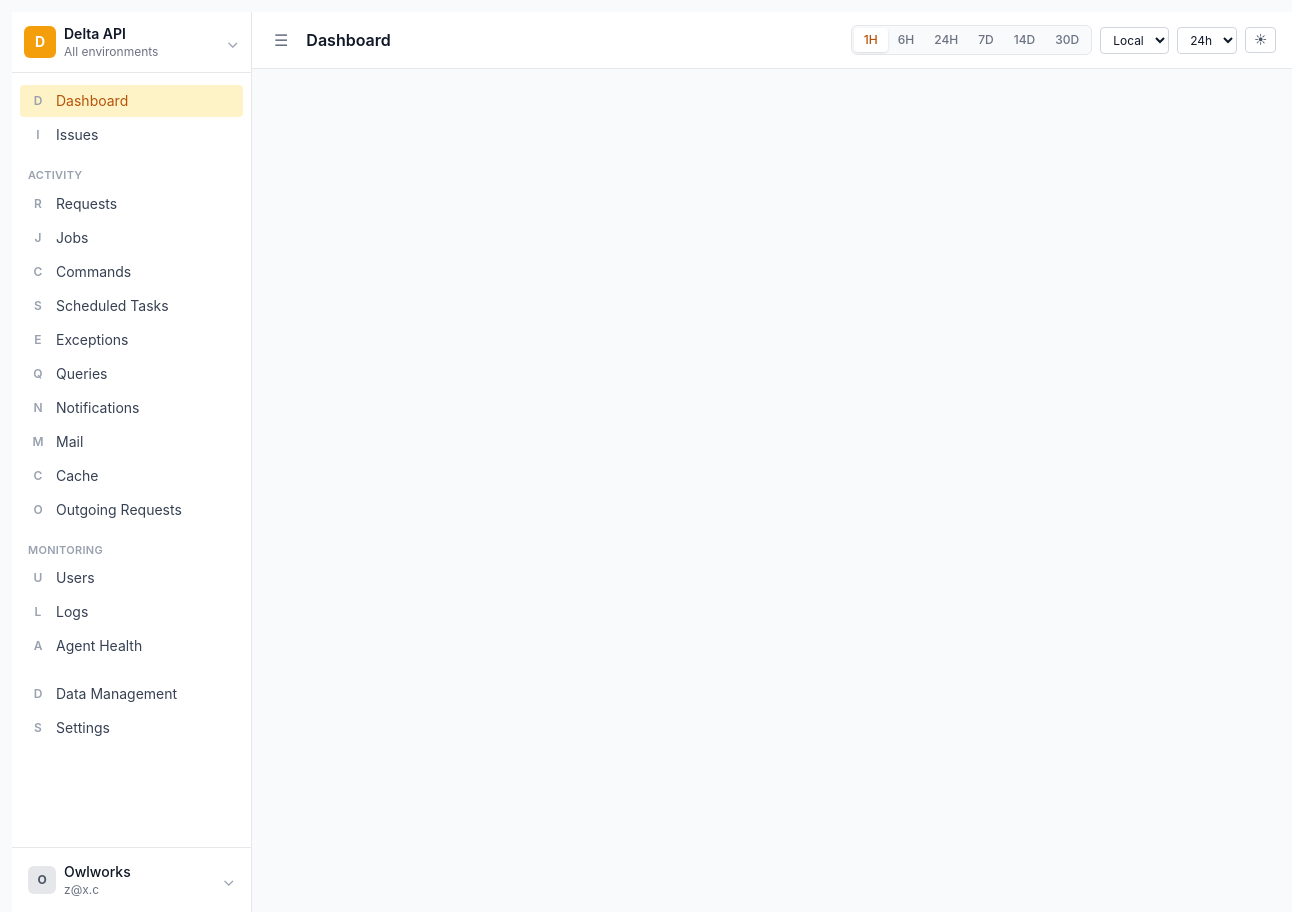
AppShell — app switcher (finding #11) › selecting an environment marks it active and updates the label
This screenshot has width=1292, height=912.
Click the button with test id "app-switcher-trigger" at (132, 42), box [12,12,251,72]
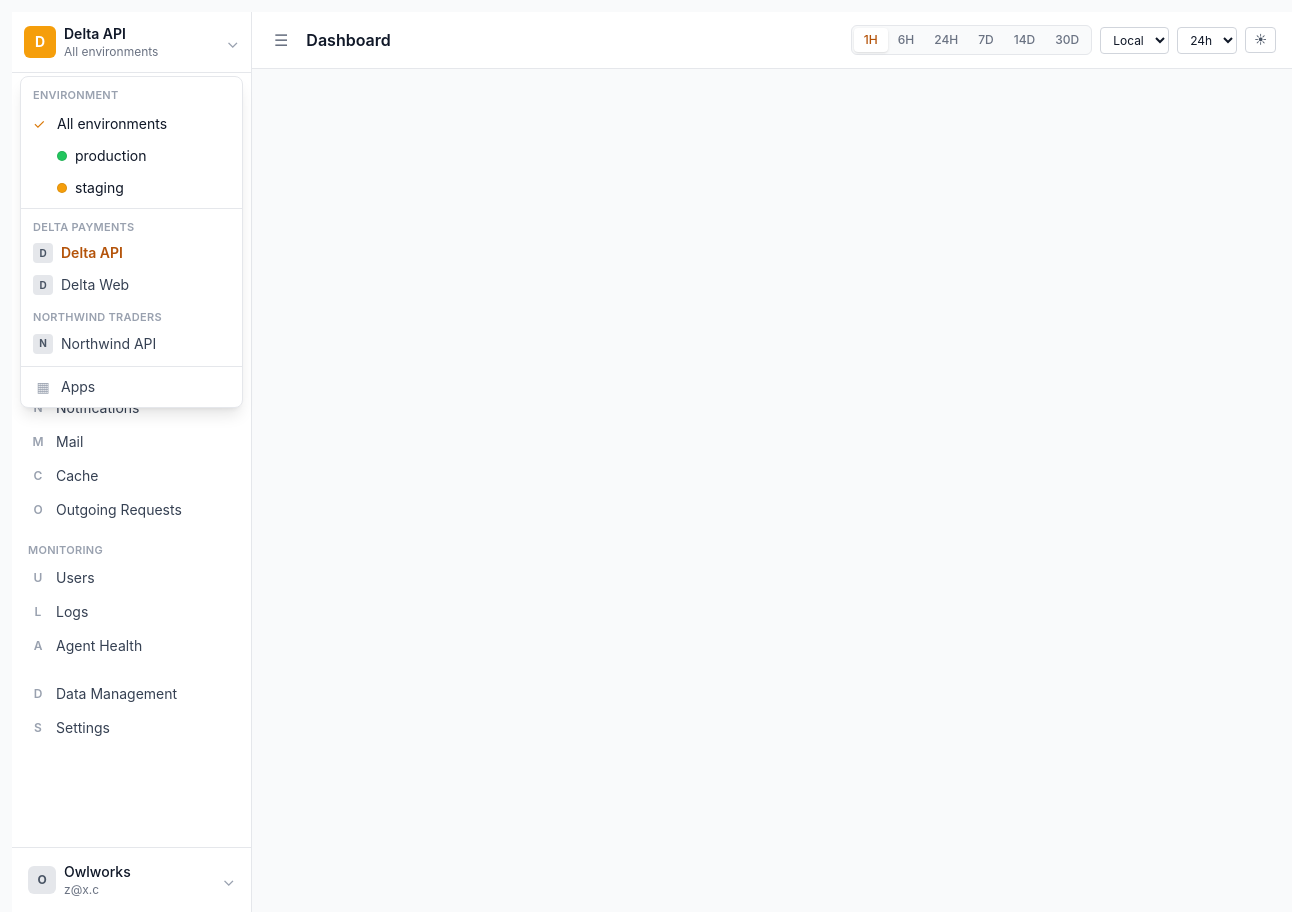
Click the button with test id "env-option" showing "production" at (132, 156), box [21,140,242,172]
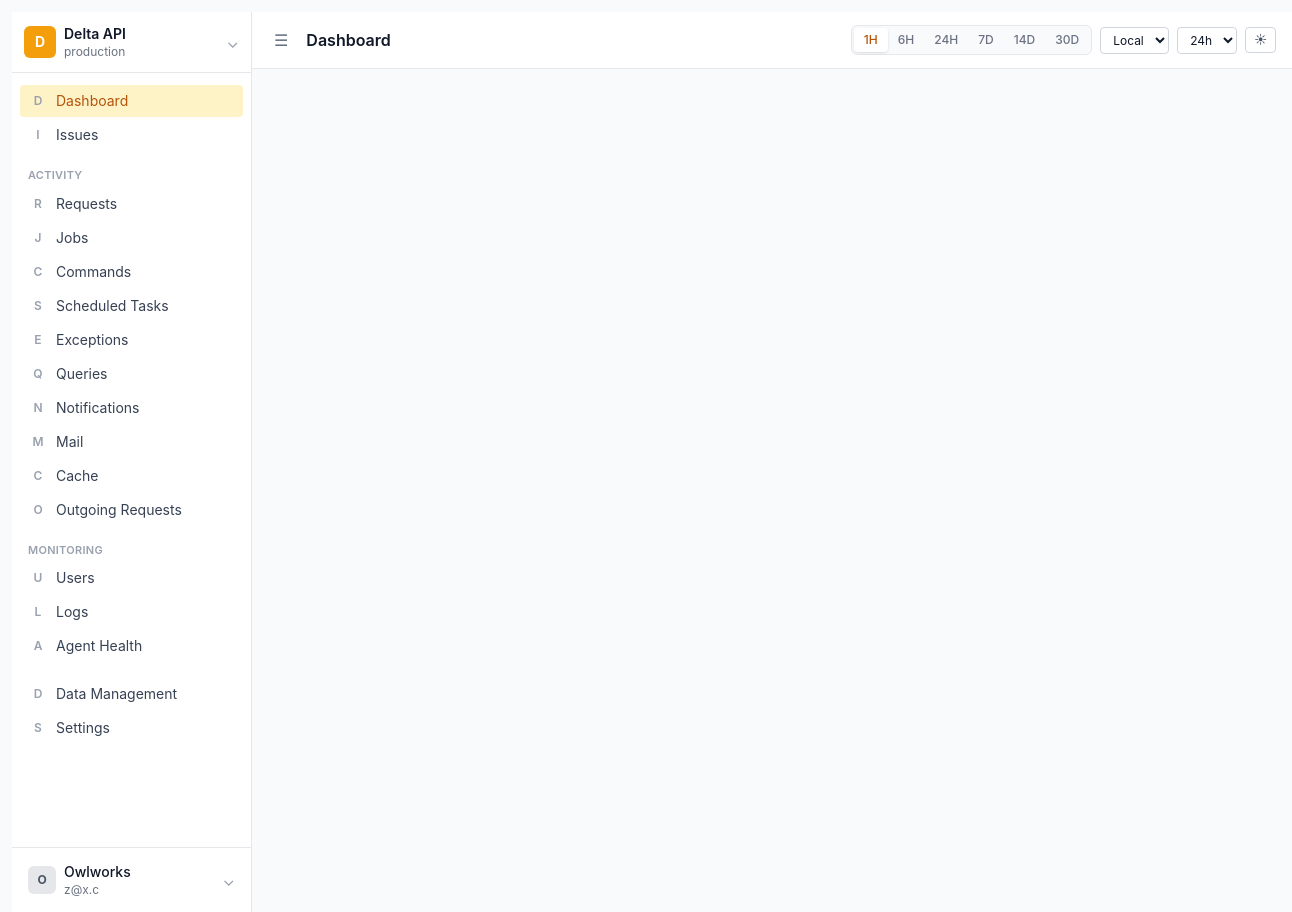
Result: the button with test id "app-switcher-trigger" shows "production" at [12,12,251,72]
Result: the text "production" is shown at [64,44,125,59]
